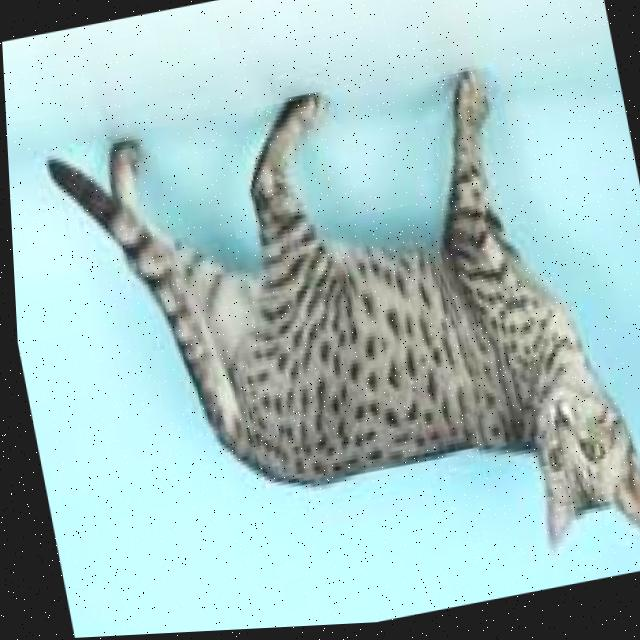Egyptian Mau: (31, 44, 640, 639)
